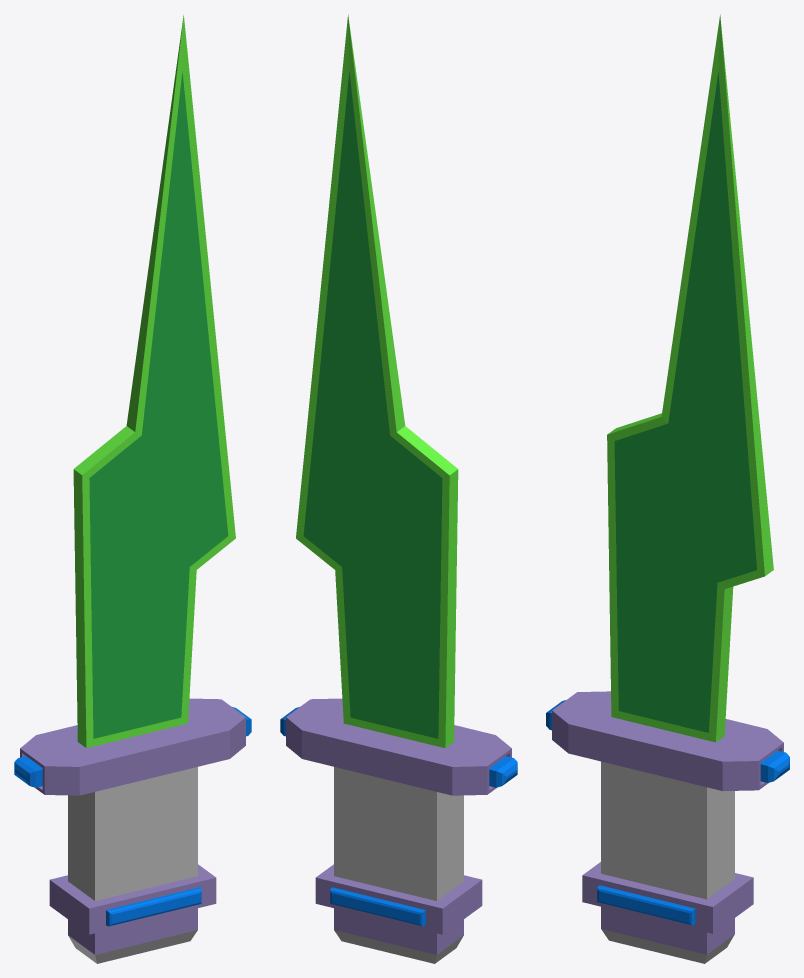
Rendered from character.sword3.fbx.
The picture shows the model from 3 angles, left to right: view 1: azimuth 30°, elevation 25°; view 2: azimuth 150°, elevation 25°; view 3: azimuth 330°, elevation 25°; orthographic projection. The views are drawn at different scales.
Visible parts, largest first — view 1: character-sword3; view 2: character-sword3; view 3: character-sword3.
Part boxes in pixels (bbox=[...]): character-sword3: bbox=[14, 15, 251, 963]; character-sword3: bbox=[280, 14, 517, 963]; character-sword3: bbox=[546, 14, 789, 963].
Bounding box in the file's own units: 0.2471 × 0.9658 × 0.0877.
